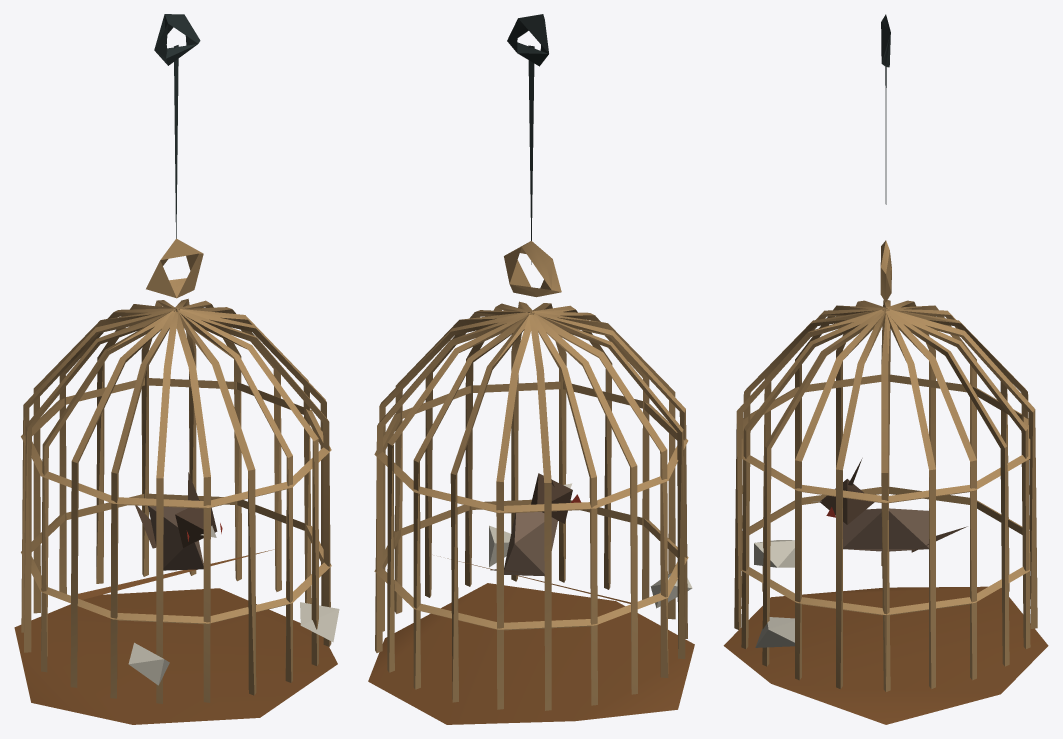
Rendered from long_chim.glb.
3 views of the same model, side by side, from view 1: azimuth 30°, elevation 25°; view 2: azimuth 150°, elevation 25°; view 3: azimuth 270°, elevation 25° (orthographic). The views are drawn at different scales.
Parts seen in each view (by area): view 1: long_chim; view 2: long_chim; view 3: long_chim.
Part boxes in pixels (box(x1,y1,x2,y2)): long_chim: box(14, 14, 339, 724); long_chim: box(368, 14, 694, 724); long_chim: box(723, 14, 1048, 724).
Size of the model in its own units: 0.42 by 0.9076 by 0.42.
